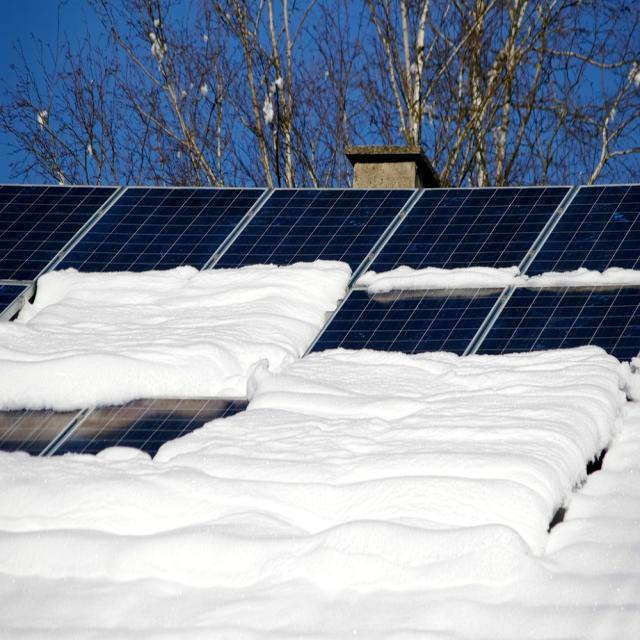panel: (0, 232, 348, 408), (356, 324, 640, 462), (0, 400, 212, 504), (404, 478, 611, 584), (358, 239, 640, 310)
